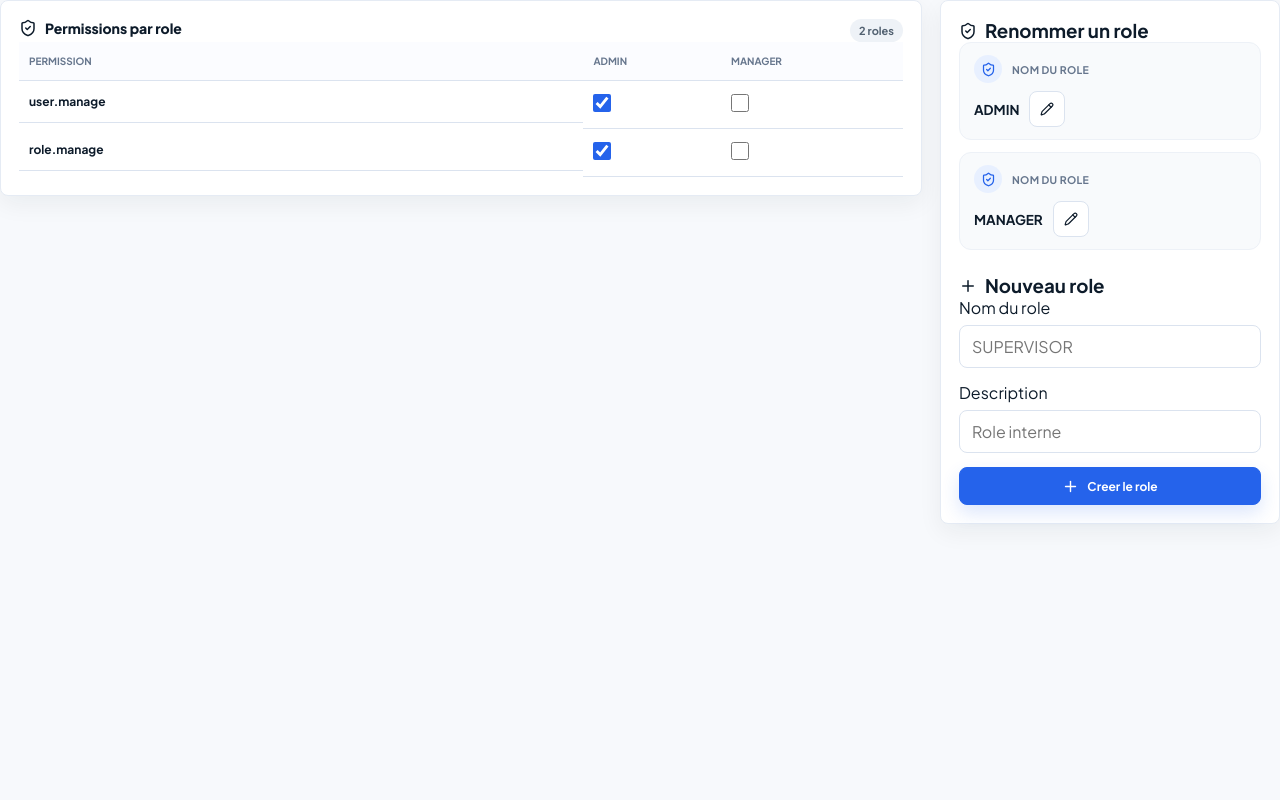
it: RolesManagement › reverts the checkbox and shows an error toast when saving permissions fails
This screenshot has width=1280, height=800.
Step 1. Click the checkbox named "role.manage pour ADMIN" → (602, 151), box [593, 142, 611, 160]
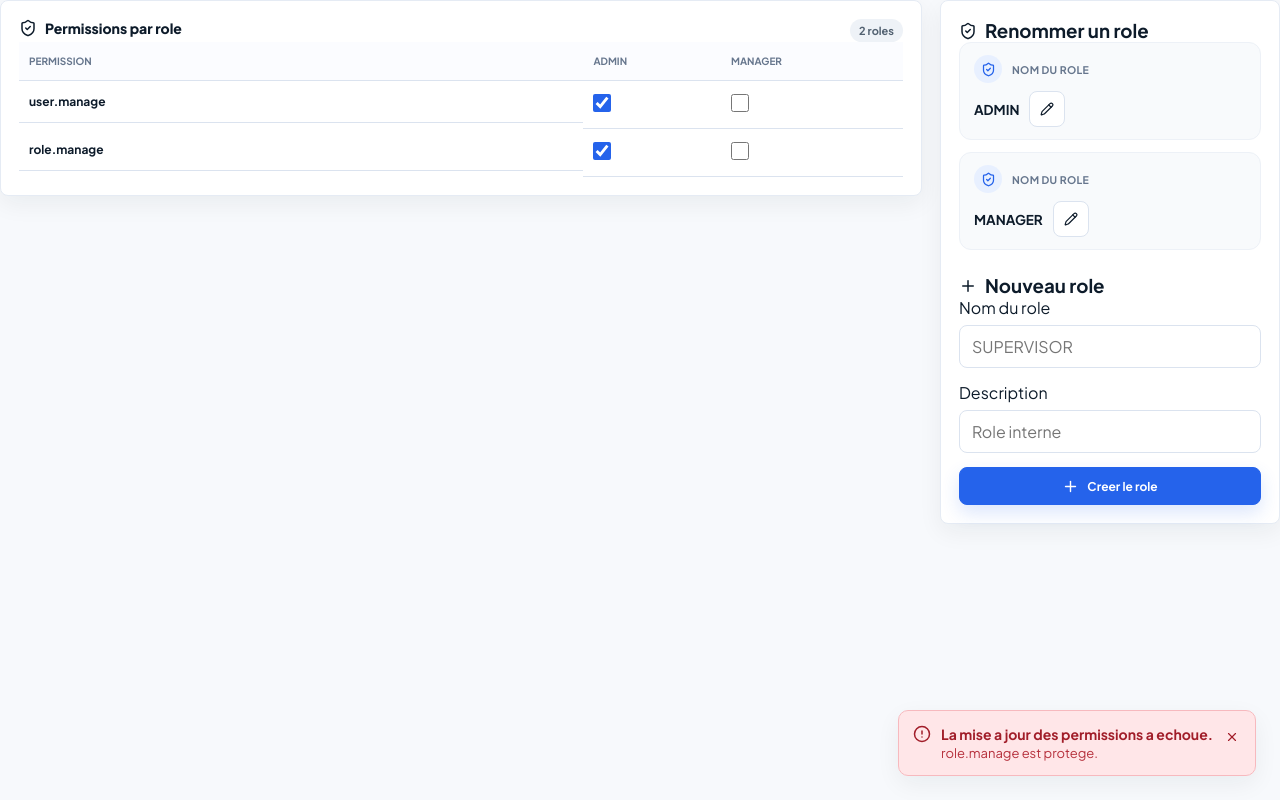
Now the text "La mise a jour des permissions a echoue." is shown, box [941, 725, 1213, 743]
Now the text "role.manage est protege." is shown, box [941, 745, 1098, 761]
